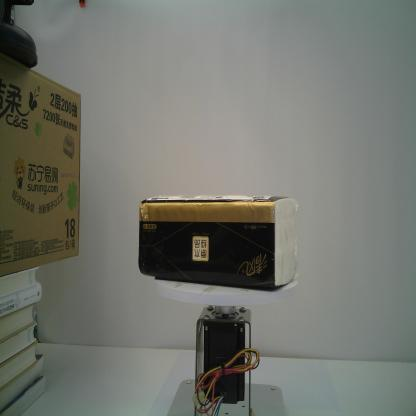Tissue: (138, 194, 298, 289)
